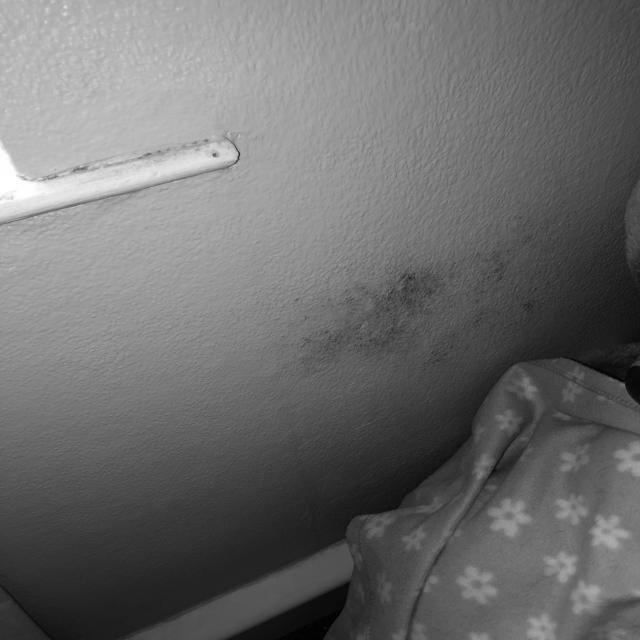stain marks: (238, 187, 586, 418)
